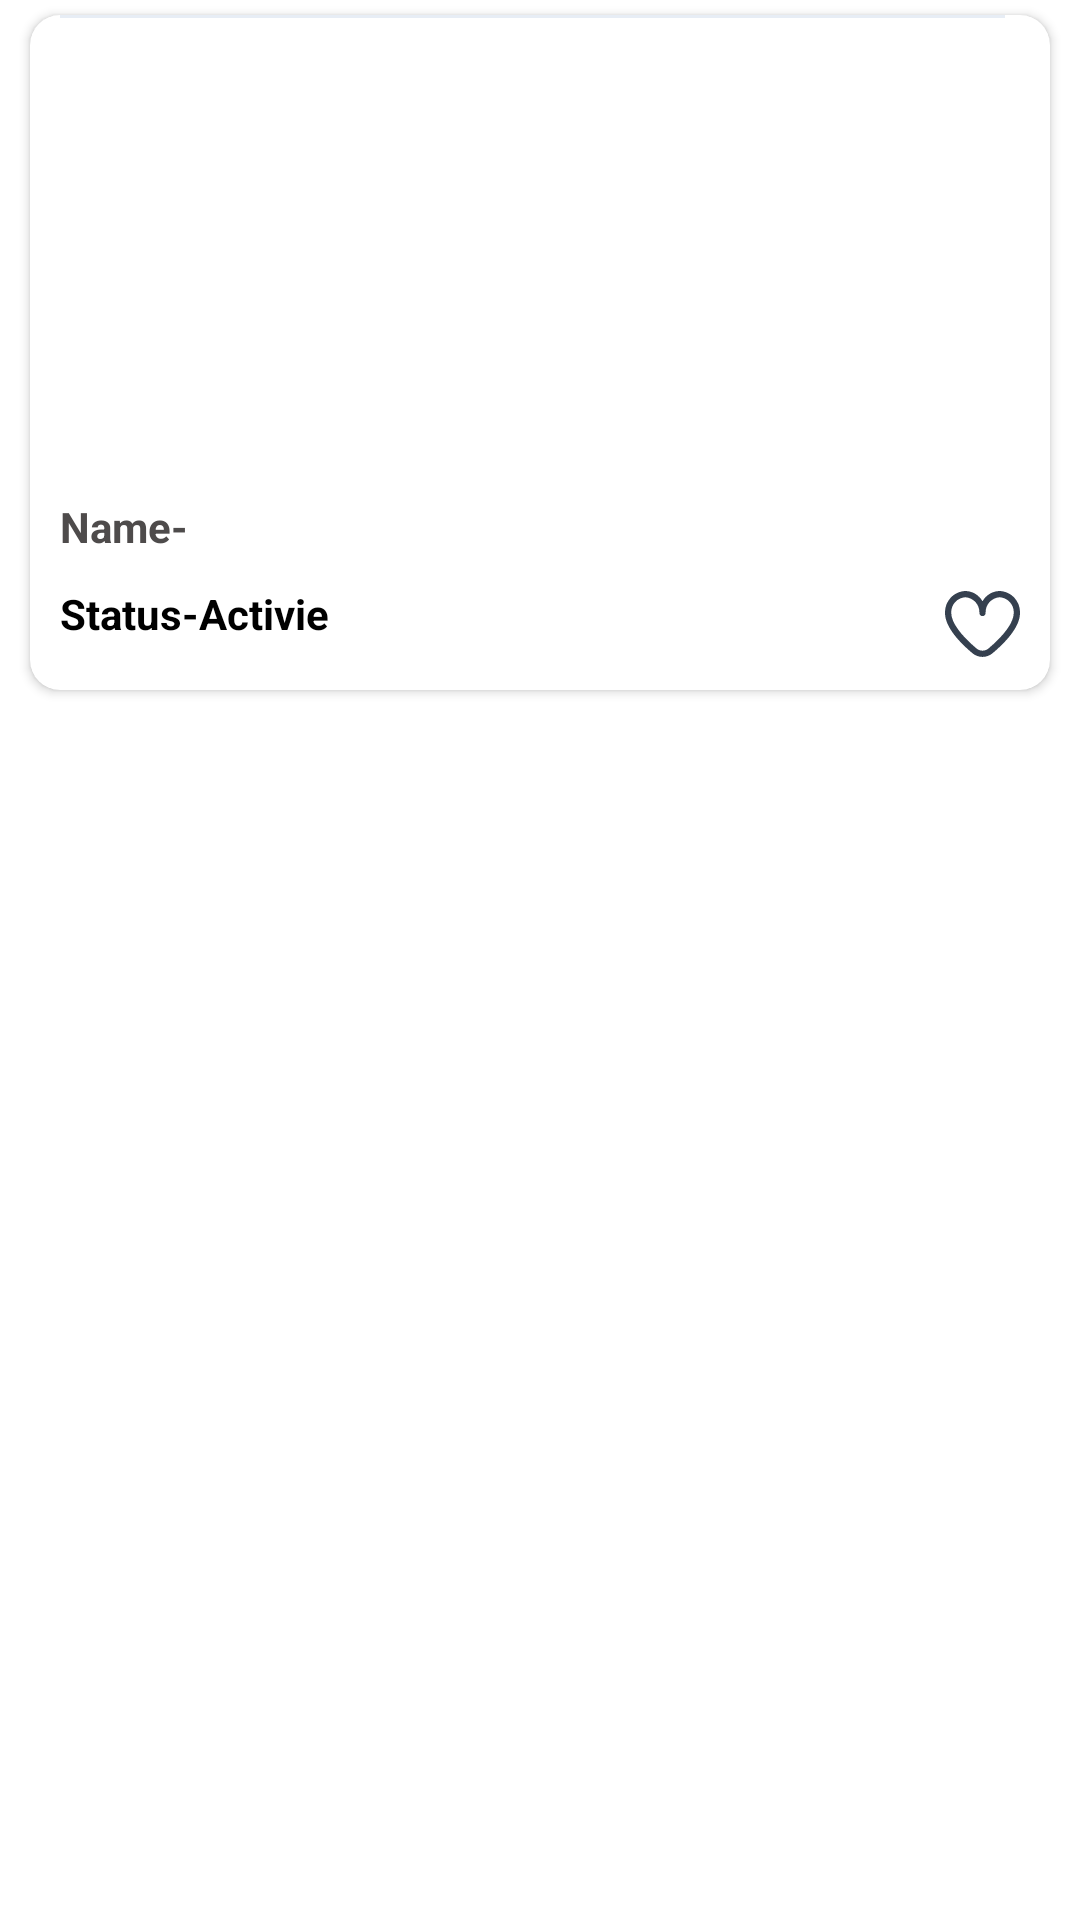

Icon bounding boxes for this 1080 x 1920 phone screenshot, format (x1, y1, x2, y2):
heart: (945, 591, 1020, 657)
